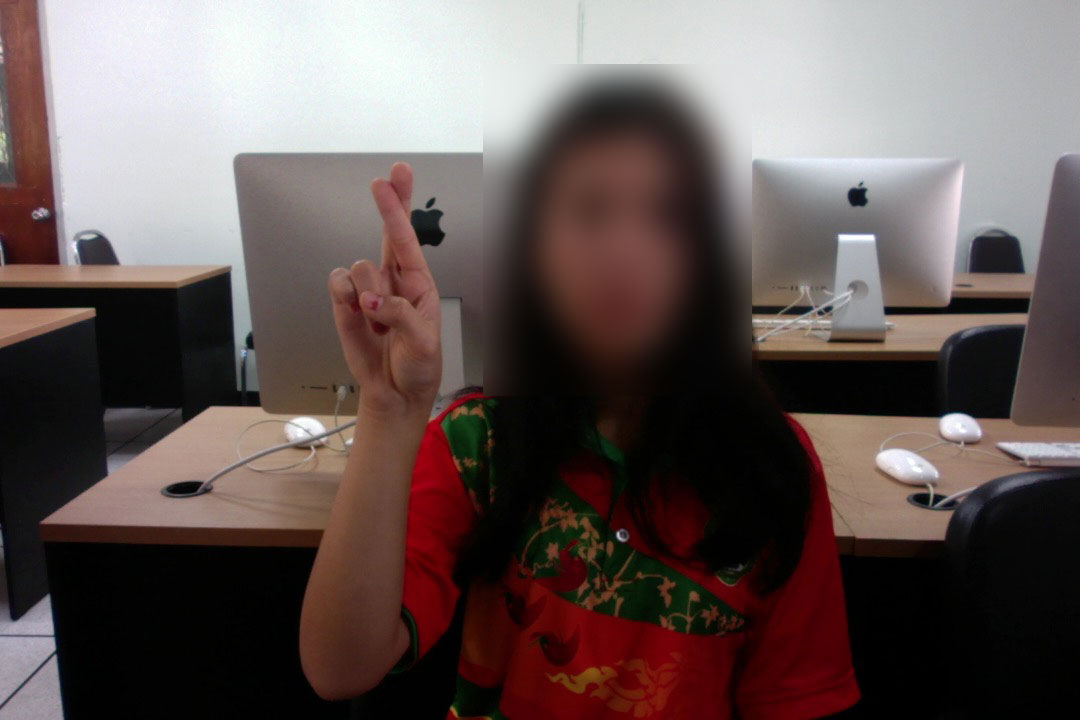rao: (323, 157, 470, 427)
